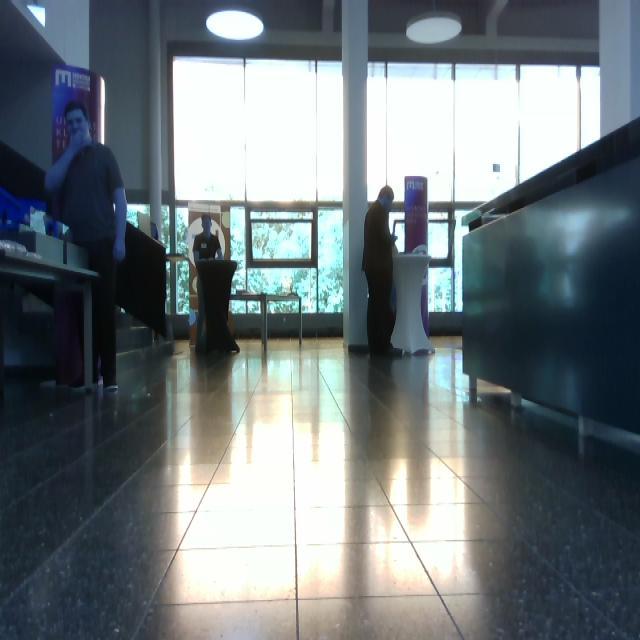light bulb: (406, 10, 463, 45), (206, 9, 265, 41), (27, 4, 46, 28)
person: (44, 100, 128, 392), (362, 185, 404, 357), (193, 214, 240, 352)
pillar: (341, 1, 369, 352), (404, 176, 430, 338)
tiled floor: (2, 332, 639, 638)
window: (171, 52, 345, 318)
